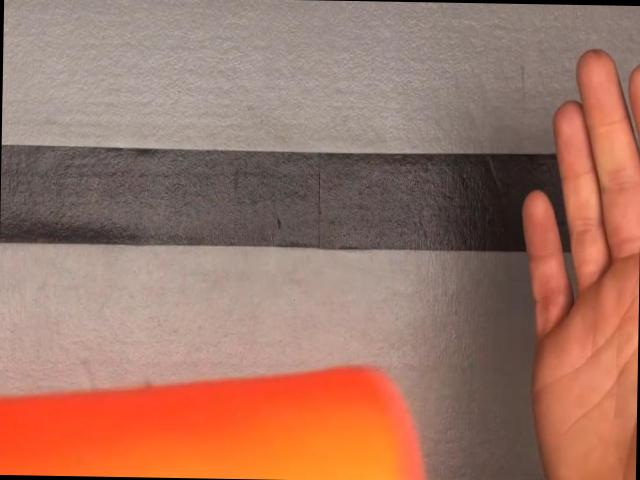hammer: (0, 359, 431, 480)
